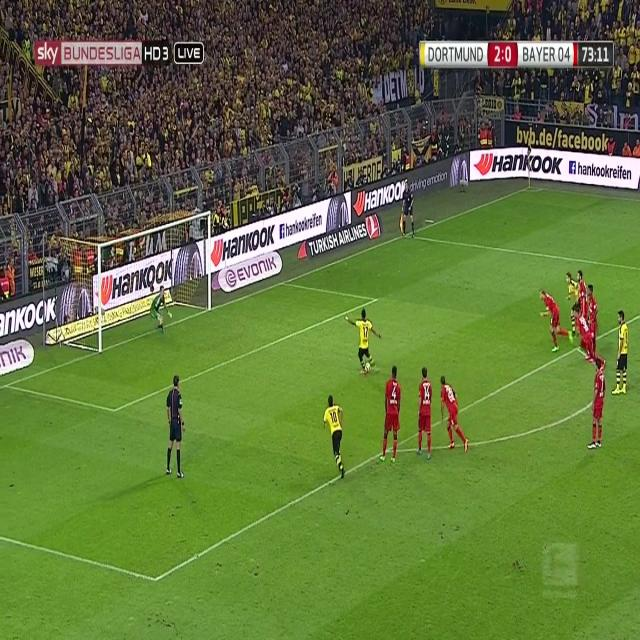Ball: (364, 360, 373, 376)
Goalkeeper: (150, 284, 174, 338)
Player: (438, 372, 472, 451), (344, 308, 384, 373), (322, 392, 350, 481), (538, 287, 576, 352), (378, 364, 402, 466), (609, 304, 631, 398), (586, 360, 606, 455), (575, 306, 604, 370), (416, 364, 433, 463), (586, 284, 600, 340), (564, 271, 578, 321), (574, 266, 586, 314)
Referee: (164, 375, 187, 482), (400, 181, 417, 240)
